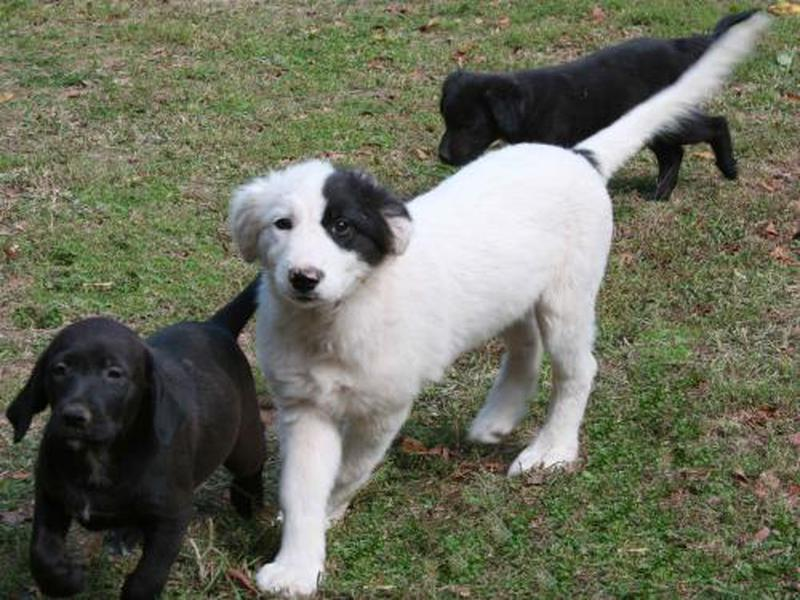dog: (226, 146, 640, 579), (9, 312, 268, 599), (413, 35, 774, 198)
